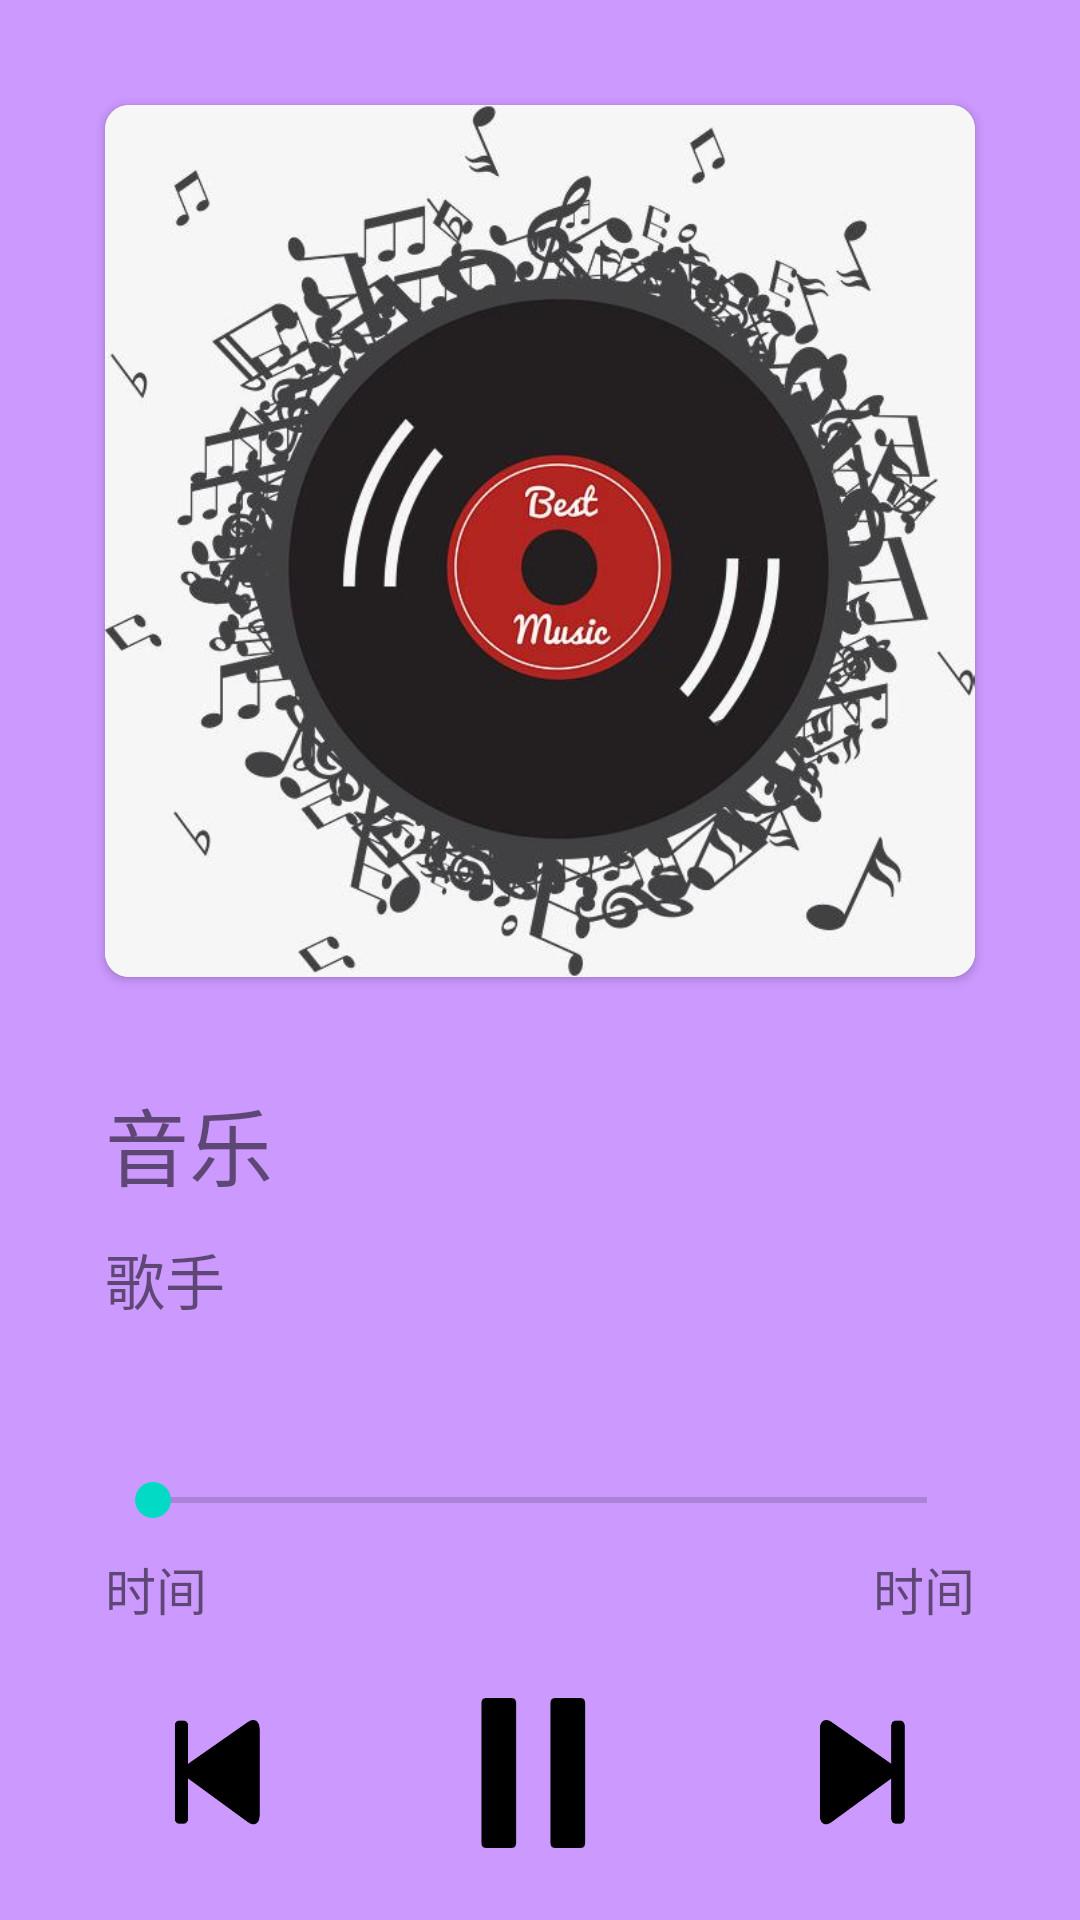

Screen size 1080px x 1920px. Icon name, then its center in pixels as [x,y]:
next: [862,1772]
previous: [217,1772]
